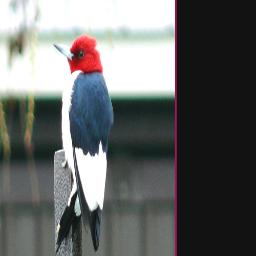Woodpecker: (53, 28, 115, 256)
